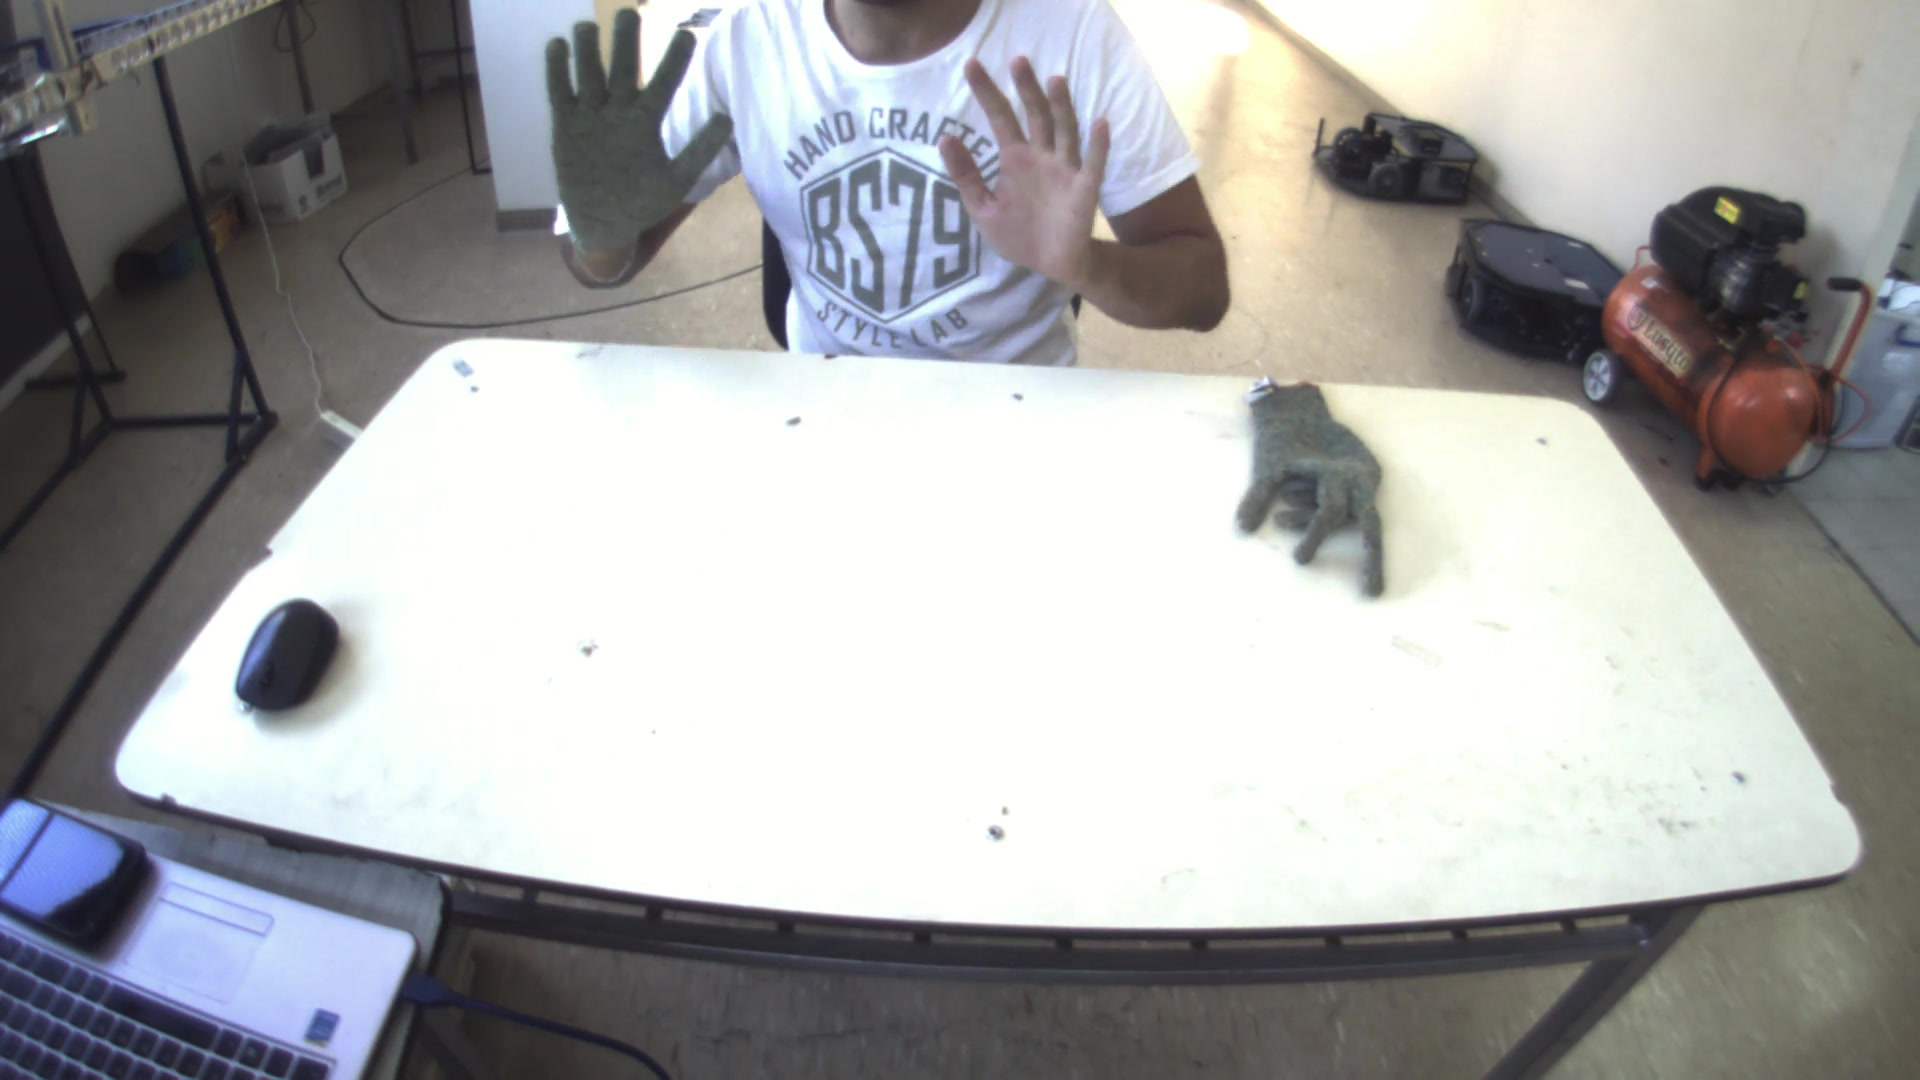hand: (526, 9, 713, 273), (931, 47, 1118, 278)
